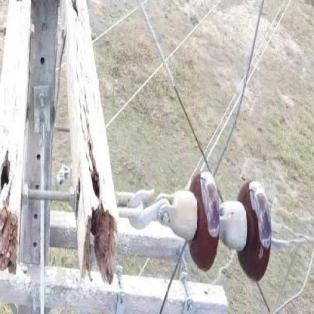Poste: (22, 0, 82, 314)
